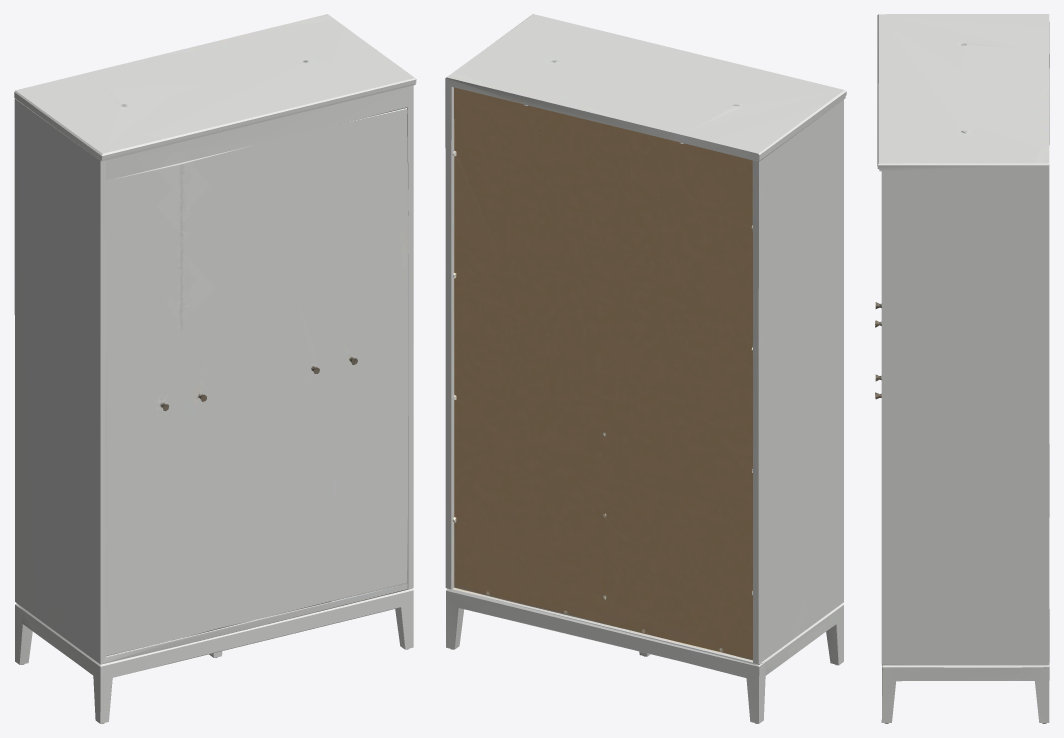
3 views of the same model, side by side, from view 1: azimuth 30°, elevation 25°; view 2: azimuth 150°, elevation 25°; view 3: azimuth 270°, elevation 25° (orthographic). The views are drawn at different scales.
Parts seen in each view (by area): view 1: ProcessedMeshNode; view 2: ProcessedMeshNode; view 3: ProcessedMeshNode.
Boxes of the visible parts, x1,y1,x2,y2 form: ProcessedMeshNode: (14,14,416,723); ProcessedMeshNode: (445,14,846,723); ProcessedMeshNode: (875,14,1049,723).
Size of the model in its own units: 1.21 by 2.11 by 0.595.
1 material, 1 textured.
